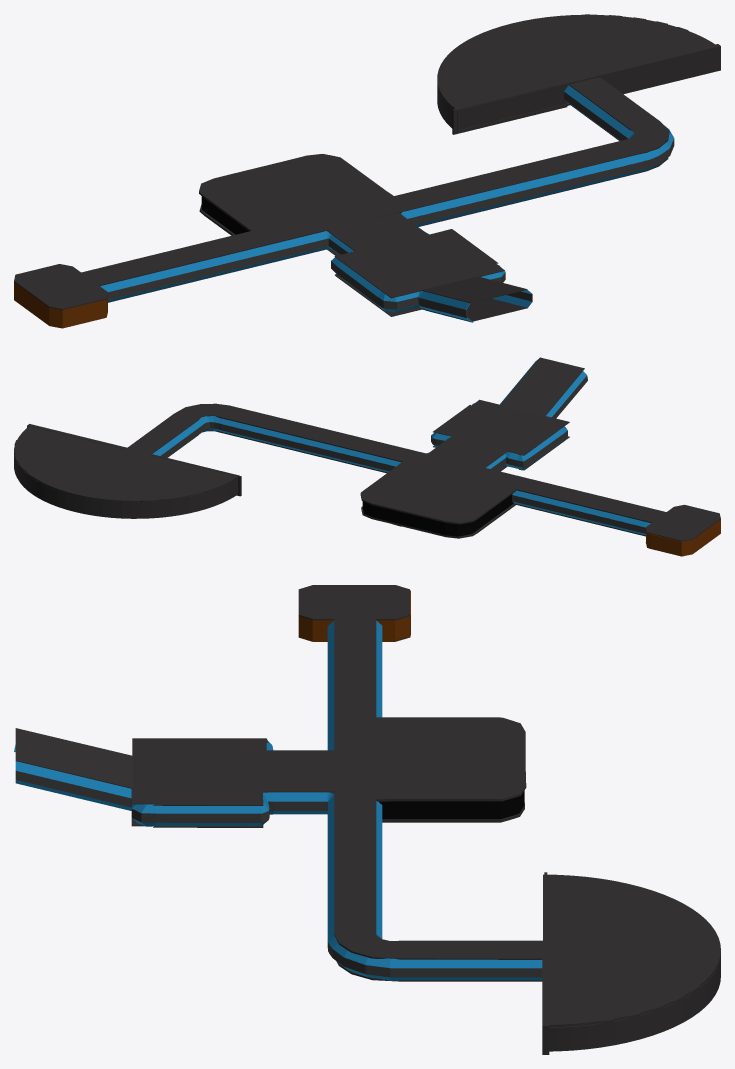
File: Chapter1-Level1.fbx
The picture shows the model from 3 angles, top to bottom: view 1: azimuth 30°, elevation 25°; view 2: azimuth 150°, elevation 25°; view 3: azimuth 270°, elevation 25°; orthographic projection. The views are drawn at different scales.
Parts seen in each view (by area): view 1: semi_circle.001, Plane.051, Plane.013, Plane.009, Plane.004, Plane.006, Cube.002, Plane.008, Cube.001, Plane.012, Plane.011, Cube (+7 smaller); view 2: semi_circle.001, Plane.051, Plane.013, Plane.009, Plane.008, Plane.030, Plane.029, ChamberWallsLeft, Cube, Plane.019, Plane.006, Plane.018 (+6 smaller); view 3: semi_circle.001, Plane.051, Plane.013, Plane.009, Plane.012, Plane.011, Plane.008, ChamberWallsRight, Plane.010, Cube, Plane.006, Plane.030 (+1 smaller).
Boxes of the visible parts, left/top/right/bottom form: semi_circle.001: left=437, top=14, right=714, bottom=130; Plane.051: left=81, top=77, right=669, bottom=285; Plane.013: left=326, top=212, right=527, bottom=303; Plane.009: left=199, top=154, right=393, bottom=231; Plane.004: left=108, top=238, right=467, bottom=317; Plane.006: left=100, top=231, right=470, bottom=309; Cube.002: left=595, top=44, right=720, bottom=94; Plane.008: left=14, top=264, right=107, bottom=309; Cube.001: left=452, top=82, right=567, bottom=134; Plane.012: left=401, top=125, right=673, bottom=294; Plane.011: left=408, top=138, right=674, bottom=301; Cube: left=14, top=275, right=107, bottom=328; semi_circle.001: left=14, top=426, right=238, bottom=517; Plane.051: left=127, top=403, right=666, bottom=523; Plane.013: left=428, top=357, right=584, bottom=467; Plane.009: left=360, top=461, right=516, bottom=524; Plane.008: left=645, top=504, right=720, bottom=541; Plane.030: left=152, top=416, right=400, bottom=466; Plane.029: left=160, top=422, right=395, bottom=471; ChamberWallsLeft: left=401, top=494, right=513, bottom=538; Cube: left=646, top=519, right=720, bottom=556; Plane.019: left=512, top=495, right=645, bottom=533; Plane.006: left=486, top=371, right=586, bottom=468; Plane.018: left=512, top=490, right=650, bottom=527; semi_circle.001: left=543, top=874, right=720, bottom=1050; Plane.051: left=334, top=619, right=542, bottom=959; Plane.013: left=15, top=728, right=334, bottom=805; Plane.009: left=376, top=717, right=526, bottom=801; Plane.012: left=15, top=761, right=542, bottom=968; Plane.011: left=15, top=771, right=542, bottom=977; Plane.008: left=298, top=585, right=409, bottom=620; ChamberWallsRight: left=379, top=791, right=524, bottom=819; Plane.010: left=15, top=780, right=542, bottom=980; Cube: left=298, top=590, right=410, bottom=641; Plane.006: left=266, top=620, right=334, bottom=750; Plane.030: left=376, top=801, right=382, bottom=938.
Size of the model in its own units: 20469 by 1173 by 13802.
